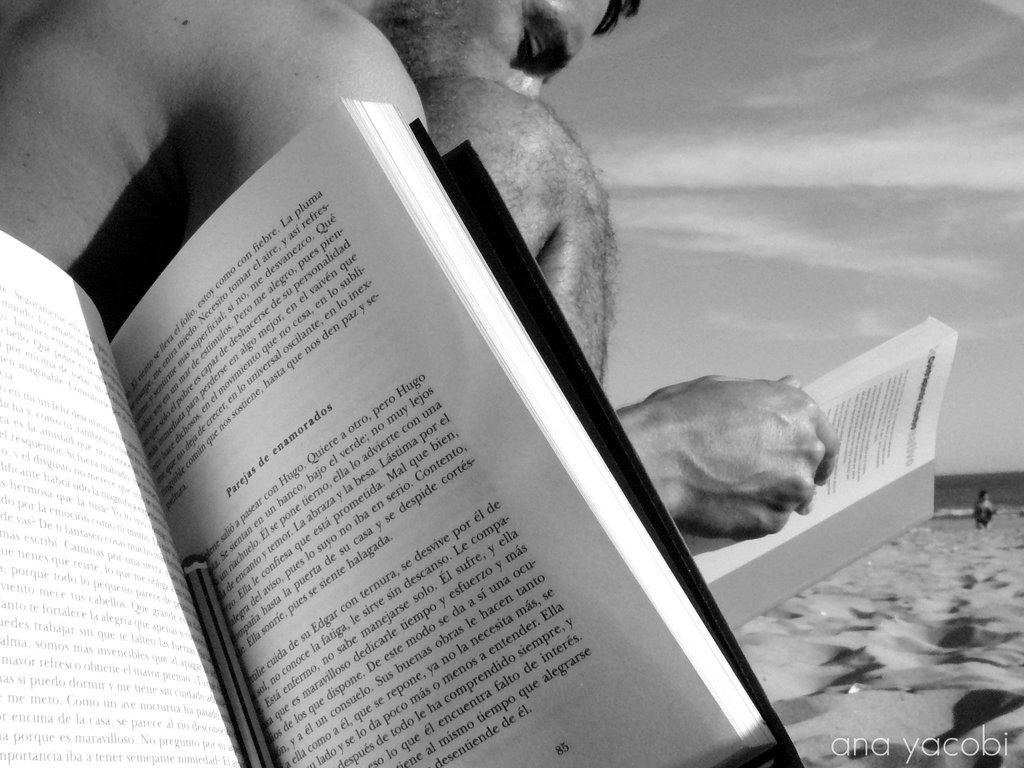Book: (0, 100, 805, 767), (671, 309, 961, 632)
